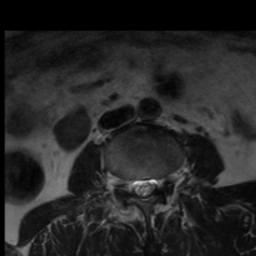CCS_normal: (140, 167, 149, 207)
LFS_normal: (159, 165, 168, 195)
LLS_stenosis: (149, 167, 159, 202)
RFS_normal: (120, 166, 131, 199)
RLS_normal: (131, 167, 140, 202)
